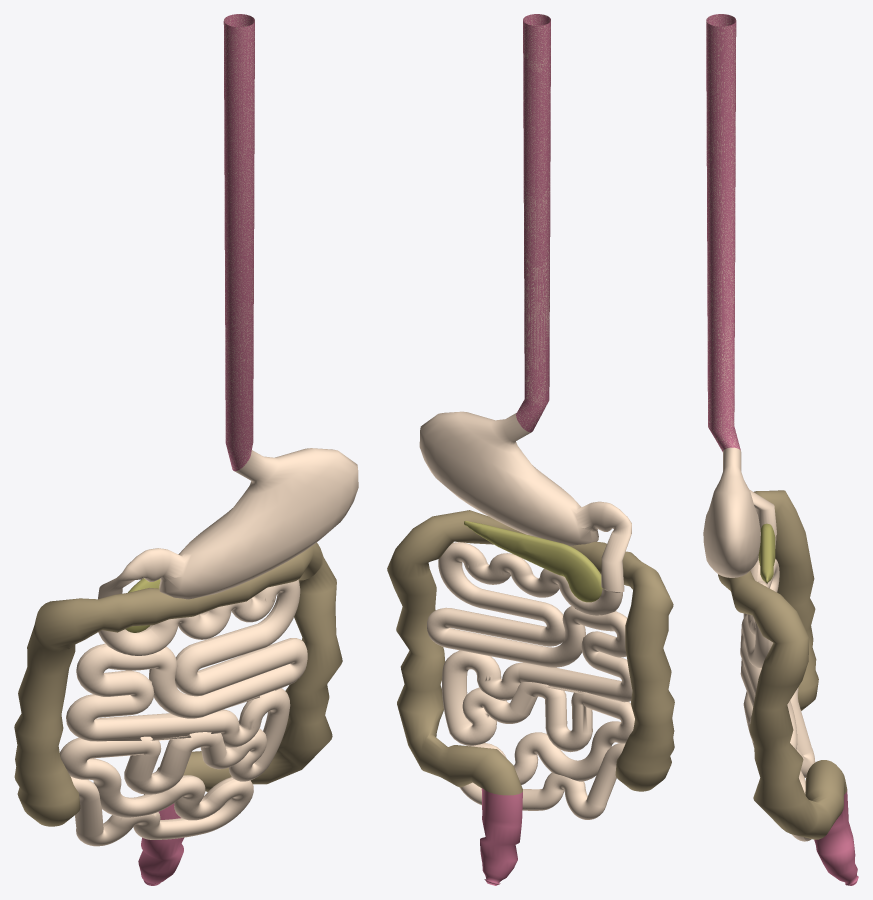
Rendered from organ.dae.
The picture shows the model from 3 angles, left to right: view 1: azimuth 30°, elevation 25°; view 2: azimuth 150°, elevation 25°; view 3: azimuth 270°, elevation 25°; orthographic projection. The views are drawn at different scales.
Parts seen in each view (by area): view 1: group_0, group_3 (×2), group_2 (×2); view 2: group_0, group_2 (×2), group_3 (×2), group_1; view 3: group_2 (×2), group_3 (×2), group_0, group_1.
Boxes of the visible parts, x1,y1,x2,y2 form: group_0: [60, 579, 307, 846]; group_3 (×2): [98, 14, 358, 599]; group_2 (×2): [14, 542, 342, 885]; group_0: [427, 542, 634, 819]; group_2 (×2): [387, 510, 674, 885]; group_3 (×2): [419, 14, 631, 592]; group_1: [464, 521, 604, 602]; group_2 (×2): [718, 490, 858, 885]; group_3 (×2): [703, 14, 776, 577]; group_0: [740, 536, 815, 841]; group_1: [758, 523, 775, 583].
Size of the model in its own units: 83.63 by 37.2 by 231.
